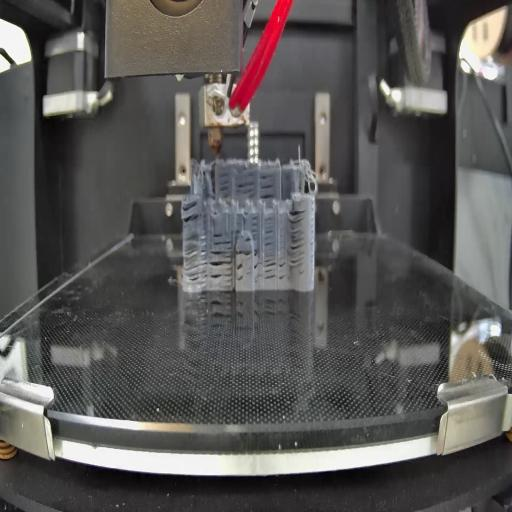cracks: (184, 231, 207, 282), (289, 208, 305, 268), (210, 251, 232, 288), (180, 198, 204, 224), (264, 255, 287, 282), (237, 176, 257, 198), (260, 173, 274, 202), (214, 230, 232, 249), (265, 214, 275, 248), (220, 172, 232, 197), (234, 209, 244, 233), (252, 248, 260, 277), (252, 209, 260, 235), (235, 248, 252, 258), (237, 263, 244, 284), (241, 236, 253, 244)
